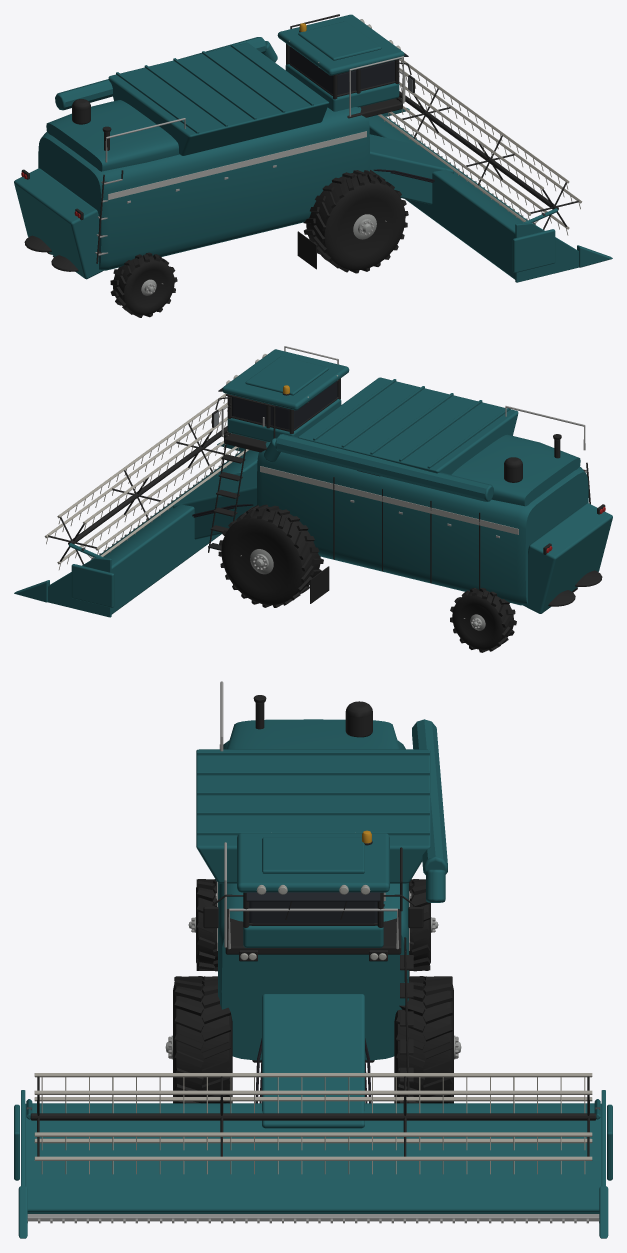
Rendered from SM_Prop_farm_combine_0.glb.
3 renders of one model, top to bottom at view 1: azimuth 30°, elevation 25°; view 2: azimuth 150°, elevation 25°; view 3: azimuth 270°, elevation 25°, orthographic. The views are drawn at different scales.
Visible parts, largest first — view 1: SM_Prop_farm_combine_0; view 2: SM_Prop_farm_combine_0; view 3: SM_Prop_farm_combine_0.
Part boxes in pixels (x1,y1,x2,y2): SM_Prop_farm_combine_0: (14,14,612,317); SM_Prop_farm_combine_0: (14,346,612,652); SM_Prop_farm_combine_0: (14,681,612,1238).
Size of the model in its own units: 10.16 by 4.1 by 7.84.
